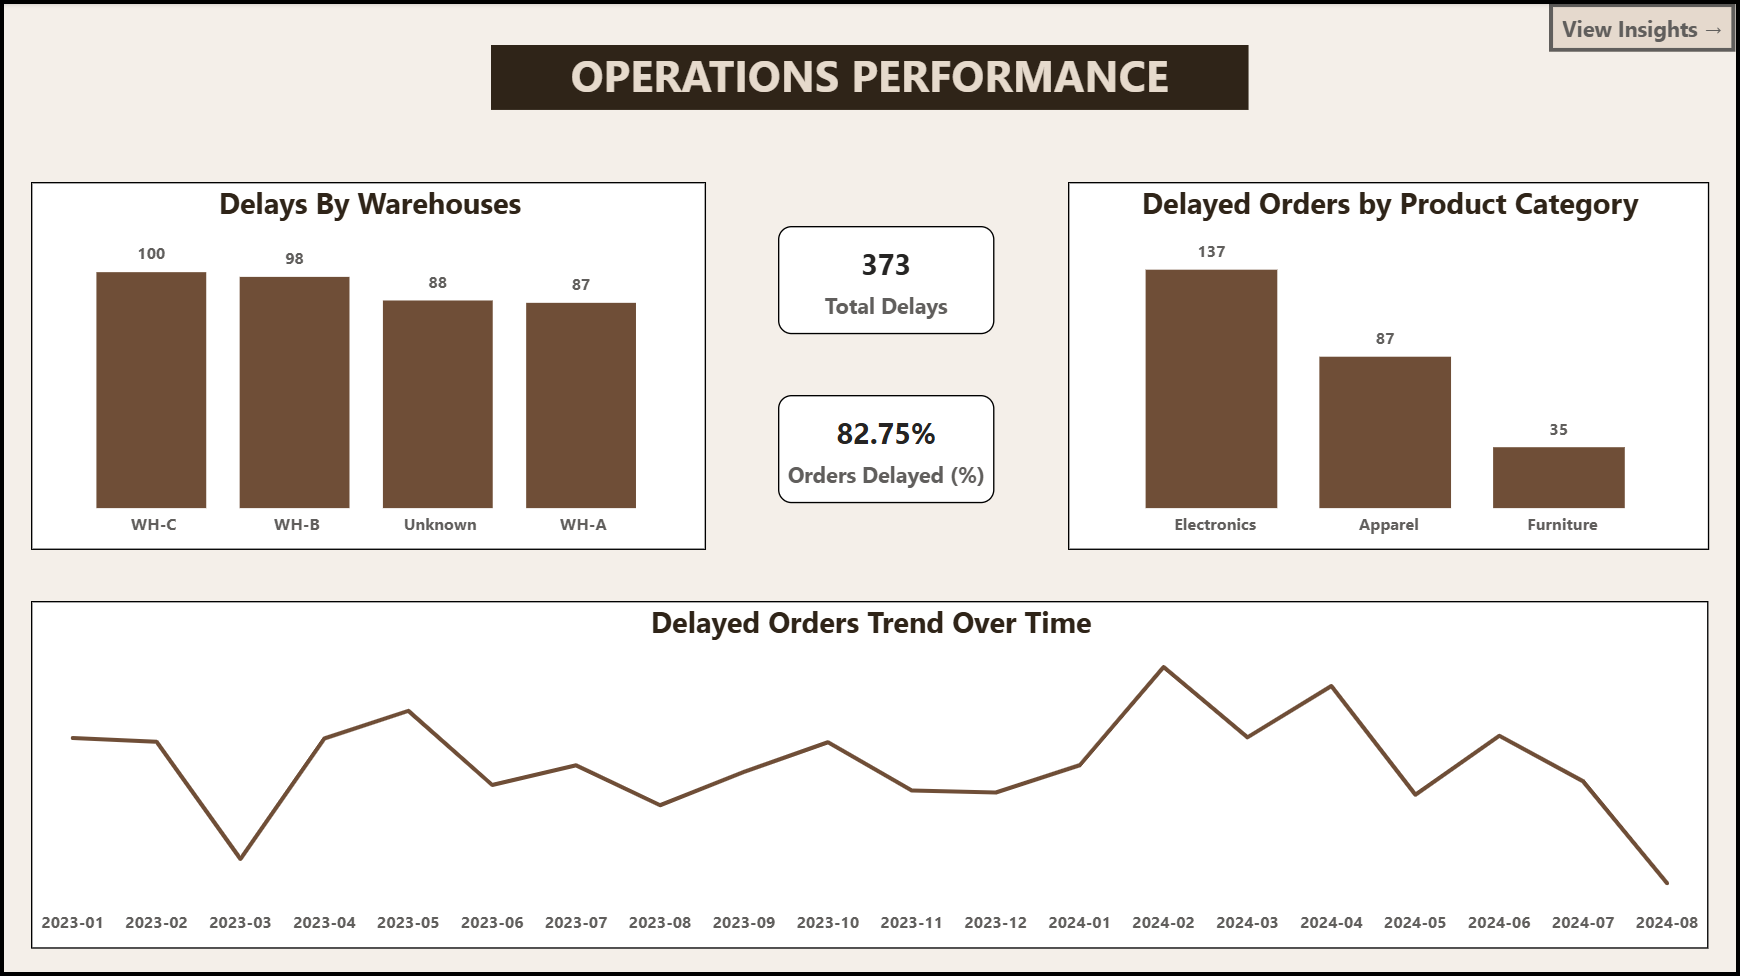

What the dashboard file says about the page in this screenshot:
{"tool":"powerbi","page":{"name":"Operations Performance","canvas":[1280,720],"ordinal":4},"visuals":[{"type":"card","fields":{"Values":["Sum(fact_operations.Is_Delayed)"]},"box":[572.4,165.2,159.9,79.5],"z":0},{"type":"clusteredColumnChart","title":"Delays By Warehouses","fields":{"Category":["fact_operations.Warehouse"],"Y":["Sum(fact_operations.Is_Delayed)"]},"box":[20.3,132.5,499.1,272.1],"z":1000},{"type":"textbox","title":"OPERATIONS PERFORMANCE","box":[360,31.1,560,48],"z":2000},{"type":"card","fields":{"Values":["fact_operations.Delayed Orders %"]},"box":[572.4,289.7,159.9,79.5],"z":3000},{"type":"clusteredColumnChart","title":"Delayed Orders by Product Category","fields":{"Category":["dim_product.Category"],"Y":["fact_operations.Delayed Orders"]},"box":[786.2,132.5,474.4,272.1],"z":4000},{"type":"lineChart","title":"Delayed Orders Trend Over Time","fields":{"Category":["dim_date.Year-Month"],"Y":["fact_operations.Delay Rate %"]},"box":[20.3,441.7,1240.2,257.1],"z":5000},{"type":"actionButton","title":"← Back to Dashboard","box":[1142.2,0,137.8,36.2],"z":5001}]}

Visuals, with their boxes in screenshot pixels (x1, y1, x2, y2), scaled from the page's 1280x720 canvas onto the 1740x976 screenshot:
card - Sum(fact_operations.Is_Delayed): 778,224,995,332
"Delays By Warehouses" clusteredColumnChart: 28,180,706,548
"OPERATIONS PERFORMANCE" textbox: 489,42,1251,107
card - fact_operations.Delayed Orders %: 778,393,995,500
"Delayed Orders by Product Category" clusteredColumnChart: 1069,180,1714,548
"Delayed Orders Trend Over Time" lineChart: 28,599,1713,947
"← Back to Dashboard" actionButton: 1553,0,1739,49
